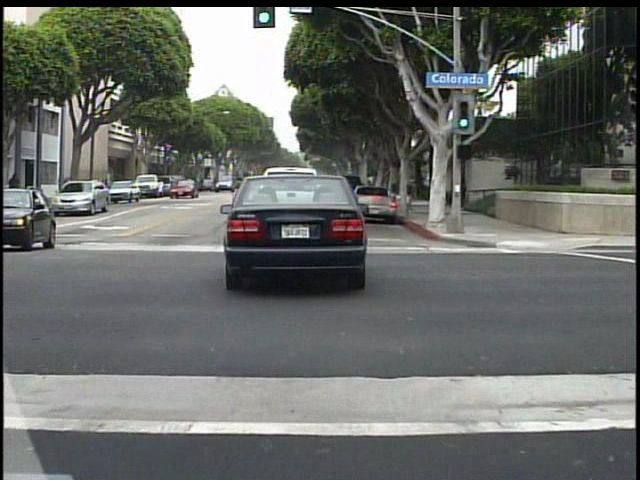person: (9, 169, 27, 209)
